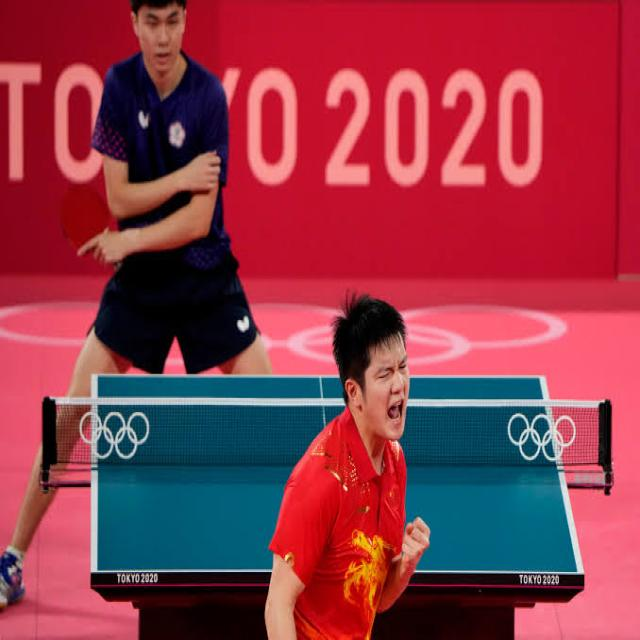TT Net: (36, 394, 613, 488)
TT Racket: (45, 170, 119, 273)
TT Table: (90, 376, 586, 577)
